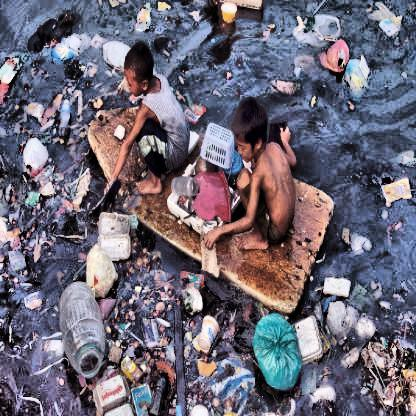Plastic wastes: (57, 276, 109, 378), (251, 309, 309, 393), (200, 117, 234, 166), (96, 370, 132, 415), (197, 312, 223, 353), (60, 97, 73, 141)
